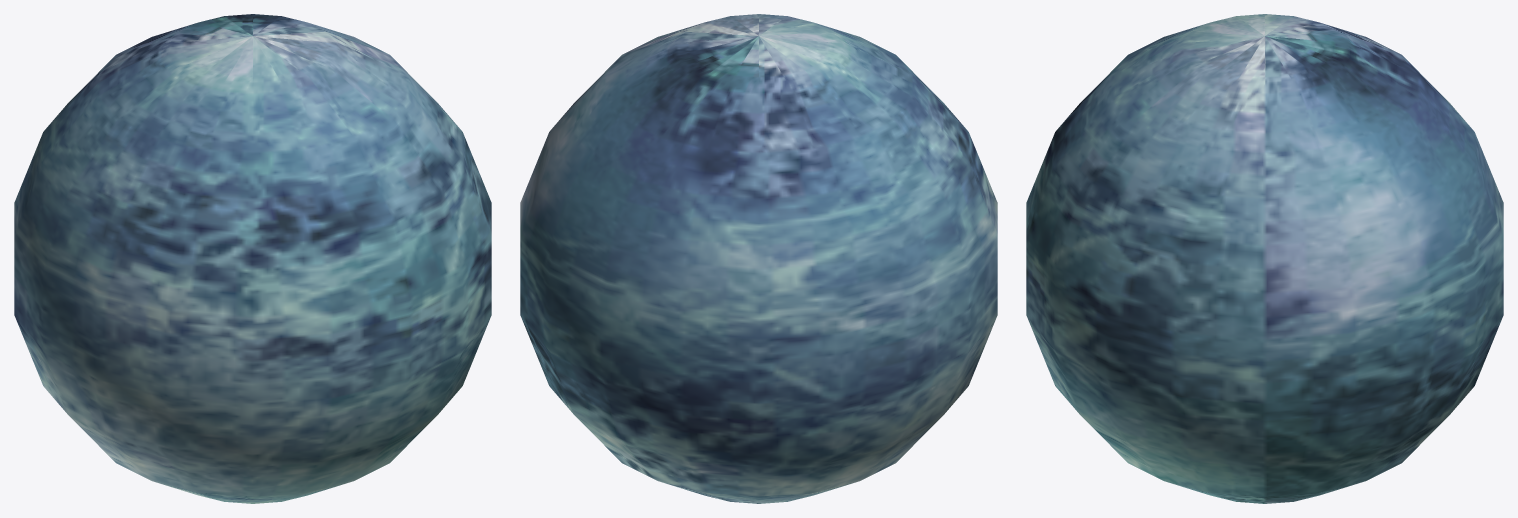
Rendered from proj_ice_Ball.fbx.
3 views of the same model, side by side, from view 1: azimuth 30°, elevation 25°; view 2: azimuth 150°, elevation 25°; view 3: azimuth 270°, elevation 25° (orthographic).
Visible parts, largest first — view 1: Sphere; view 2: Sphere; view 3: Sphere.
Part boxes in pixels (x1,y1,x2,y2): Sphere: [14, 14, 491, 503]; Sphere: [520, 14, 997, 503]; Sphere: [1026, 14, 1503, 503].
Bounding box in the file's own units: 0.3939 × 0.4 × 0.3879.
Materials: 1 (1 with a texture image).
